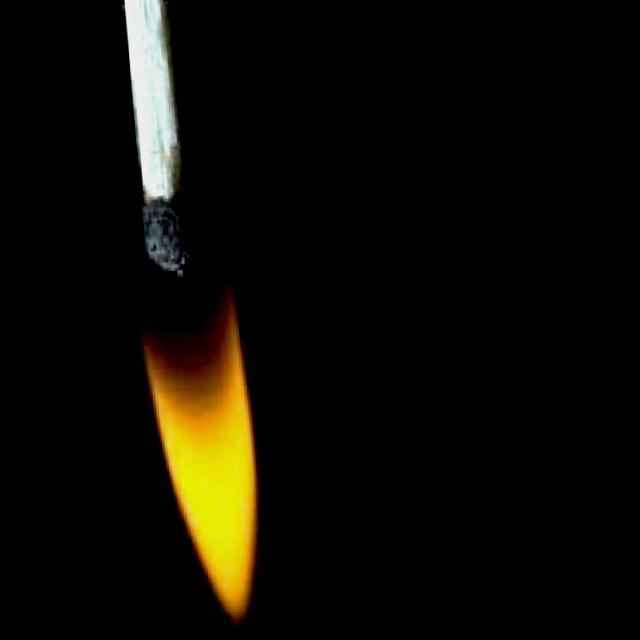helmet: (123, 264, 269, 631)
